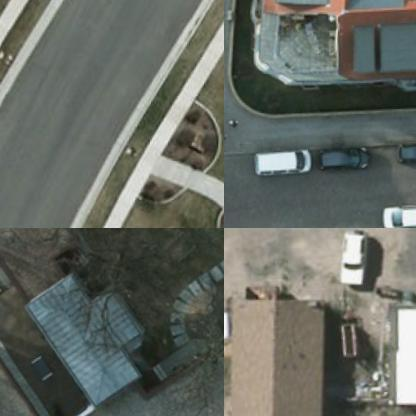car: (334, 228, 370, 285), (316, 142, 371, 176), (396, 136, 415, 165)
van: (254, 140, 312, 178), (379, 201, 415, 227)
